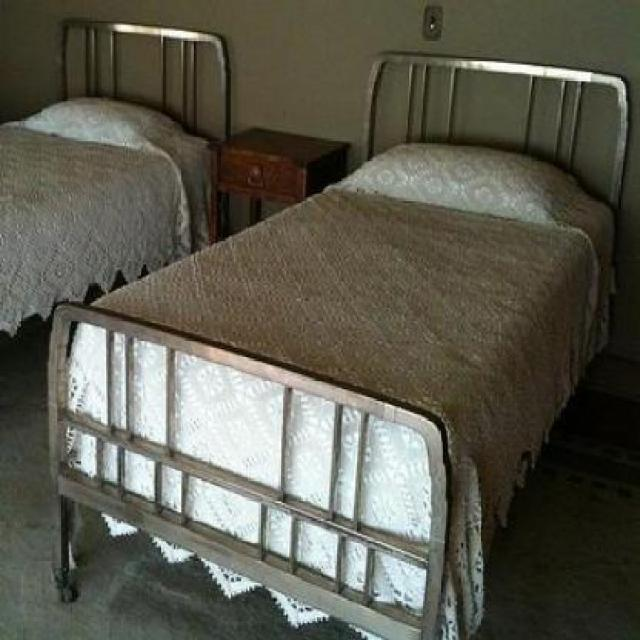Bed: (34, 40, 640, 640), (0, 0, 228, 428)
